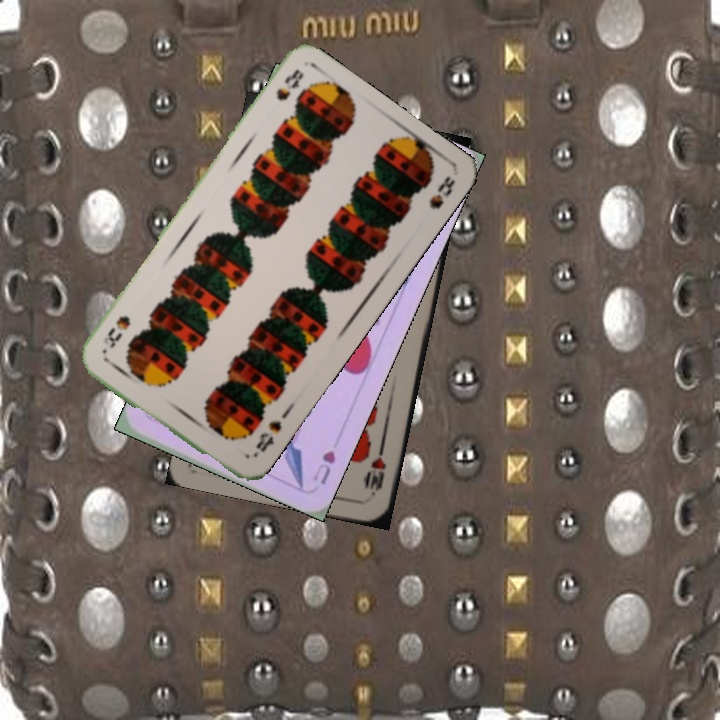H10: (361, 441, 389, 499)
HU: (308, 446, 338, 488)
S8: (249, 416, 284, 461), (272, 64, 307, 104)
